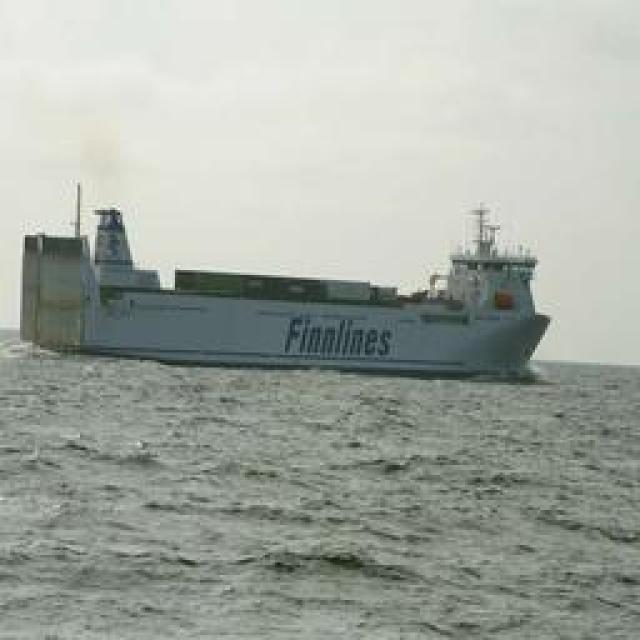CIV_Ship: (15, 202, 548, 376)
